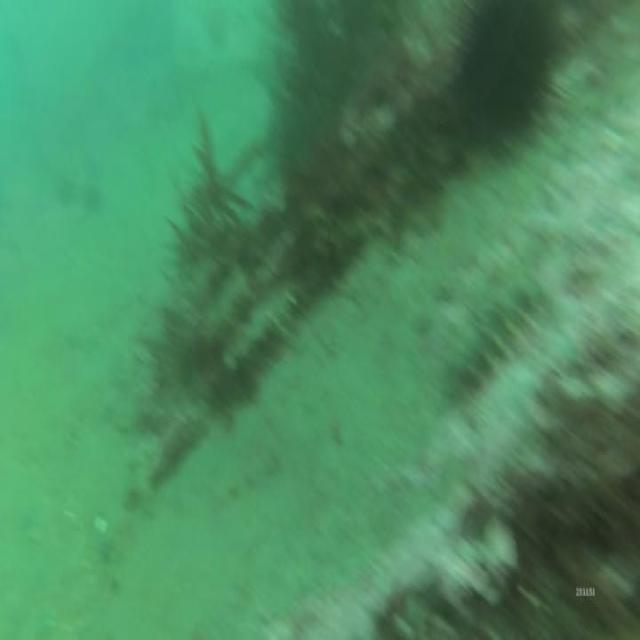holothurian: (435, 267, 545, 398)
